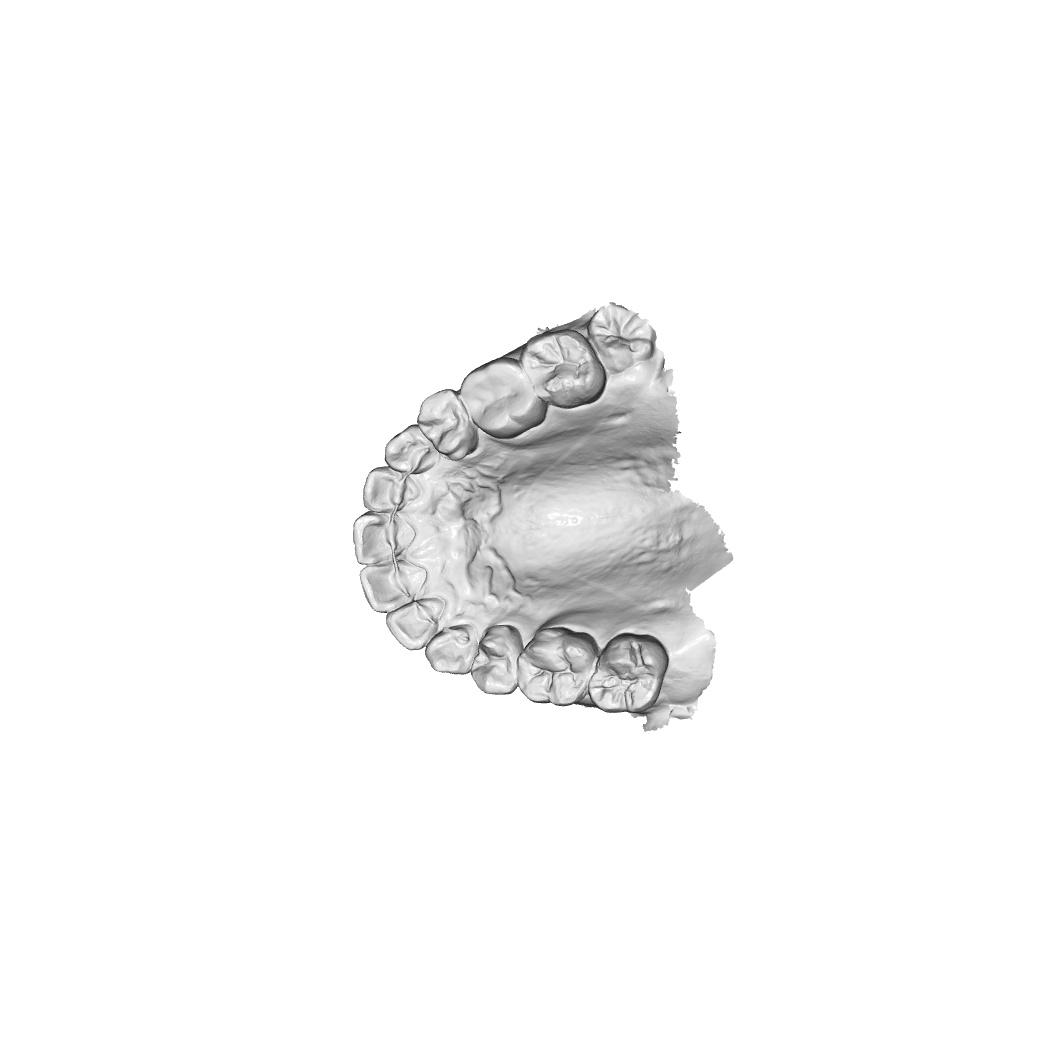canine: (424, 620, 483, 678), (382, 422, 439, 473)
incisor: (359, 559, 427, 613), (352, 511, 416, 566), (386, 596, 447, 651), (362, 465, 423, 513)
molar: (460, 357, 548, 440), (518, 329, 606, 409), (587, 631, 670, 714), (516, 626, 600, 708), (586, 301, 658, 375)
premolar: (416, 388, 480, 462), (470, 624, 524, 696)
